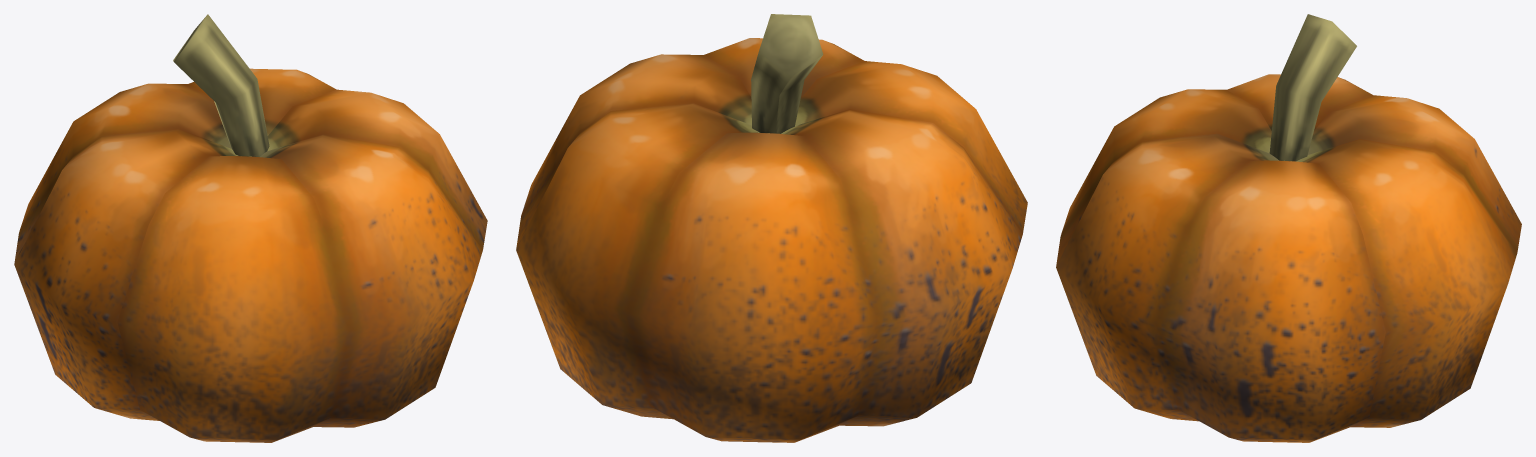
The model's file is plant_pumpkin.gltf.
The picture shows the model from 3 angles, left to right: view 1: azimuth 30°, elevation 25°; view 2: azimuth 150°, elevation 25°; view 3: azimuth 270°, elevation 25°; orthographic projection. The views are drawn at different scales.
Parts seen in each view (by area): view 1: plant_pumpkin; view 2: plant_pumpkin; view 3: plant_pumpkin.
Boxes of the visible parts, <box> form: plant_pumpkin: <box>14,14,487,442</box>; plant_pumpkin: <box>516,14,1027,442</box>; plant_pumpkin: <box>1056,14,1521,442</box>.
Bounding box in the file's own units: 0.3265 × 0.2681 × 0.3242.
Materials: 1 (1 with a texture image).
